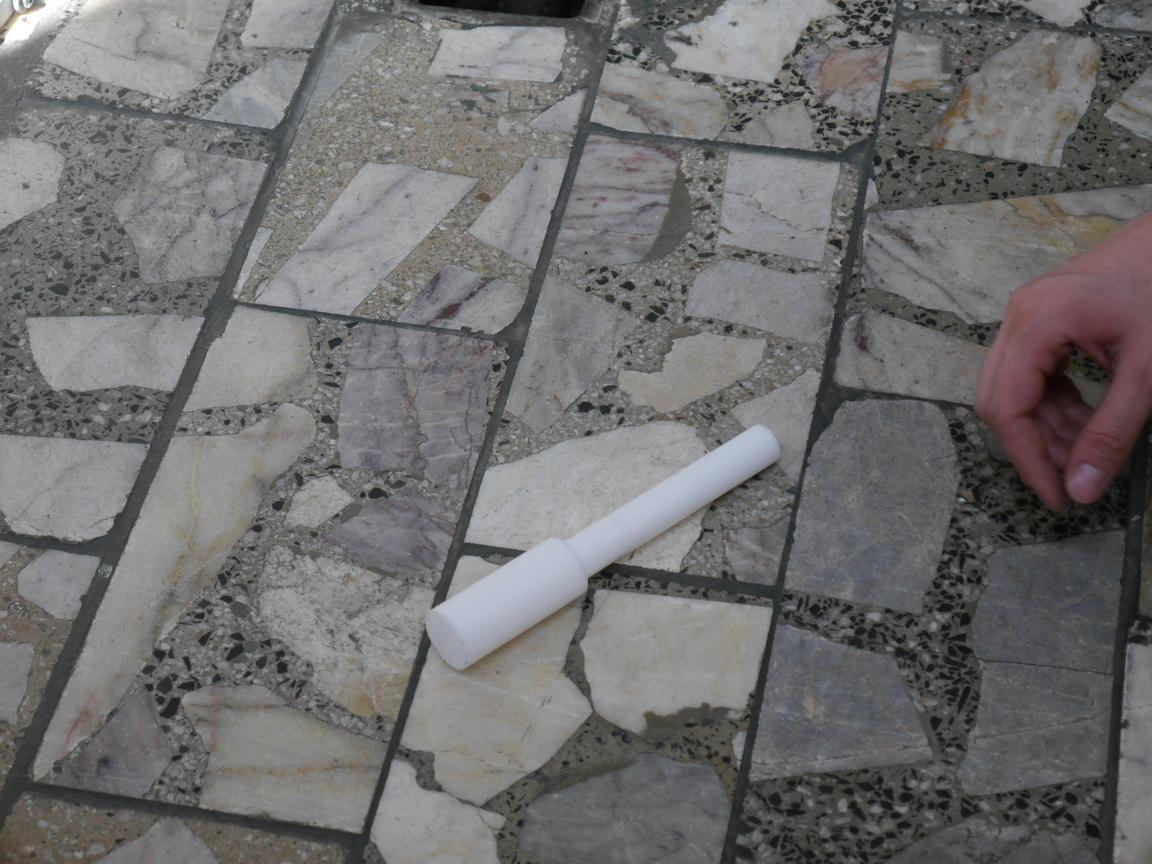cargo_g: (423, 422, 784, 671)
